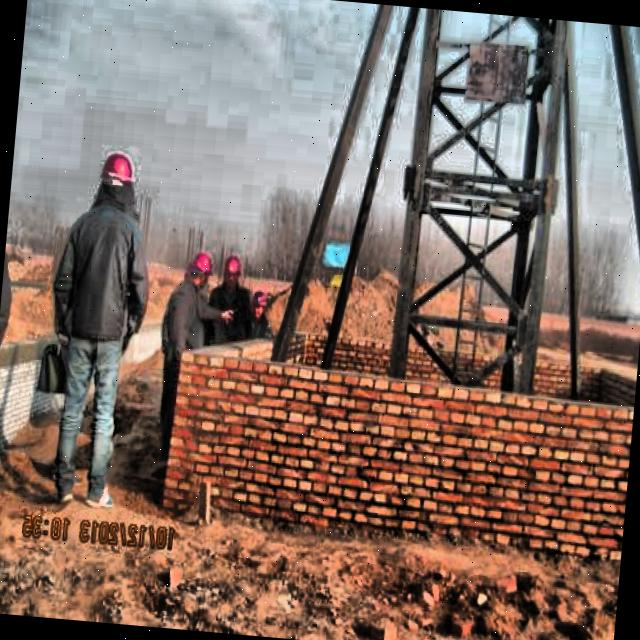helmet: (88, 145, 136, 219), (180, 245, 214, 289), (218, 248, 244, 292), (247, 282, 269, 323)
